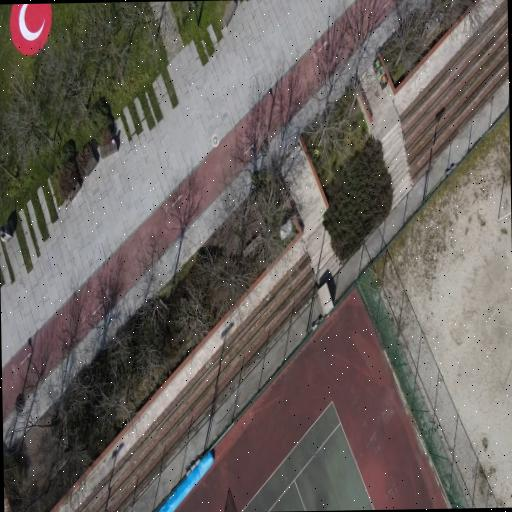UAI: (10, 4, 52, 55)
